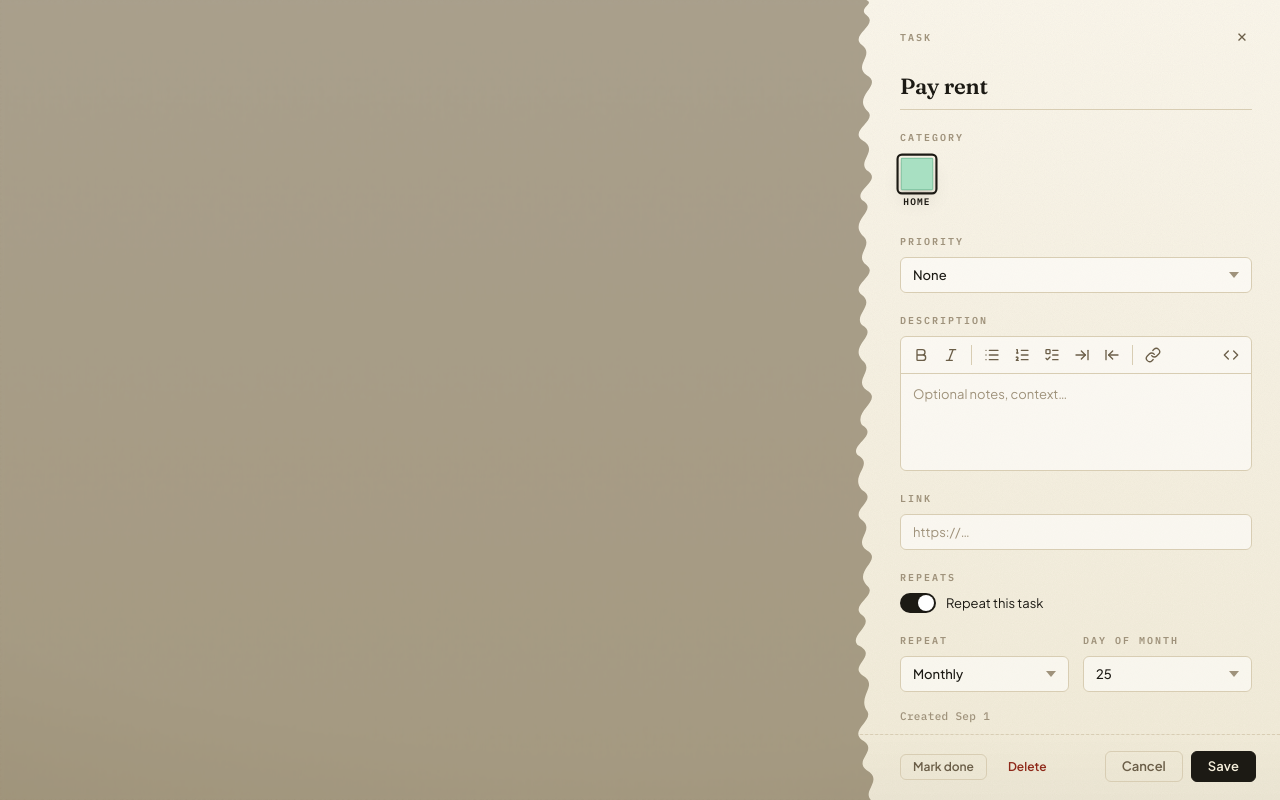
it: TaskDrawer auto-save on dismiss › stays open with the reason when the edits are invalid
This screenshot has width=1280, height=800.
Clear the 1st field with placeholder "Task title…": (1076, 90) [900, 70, 1252, 110]
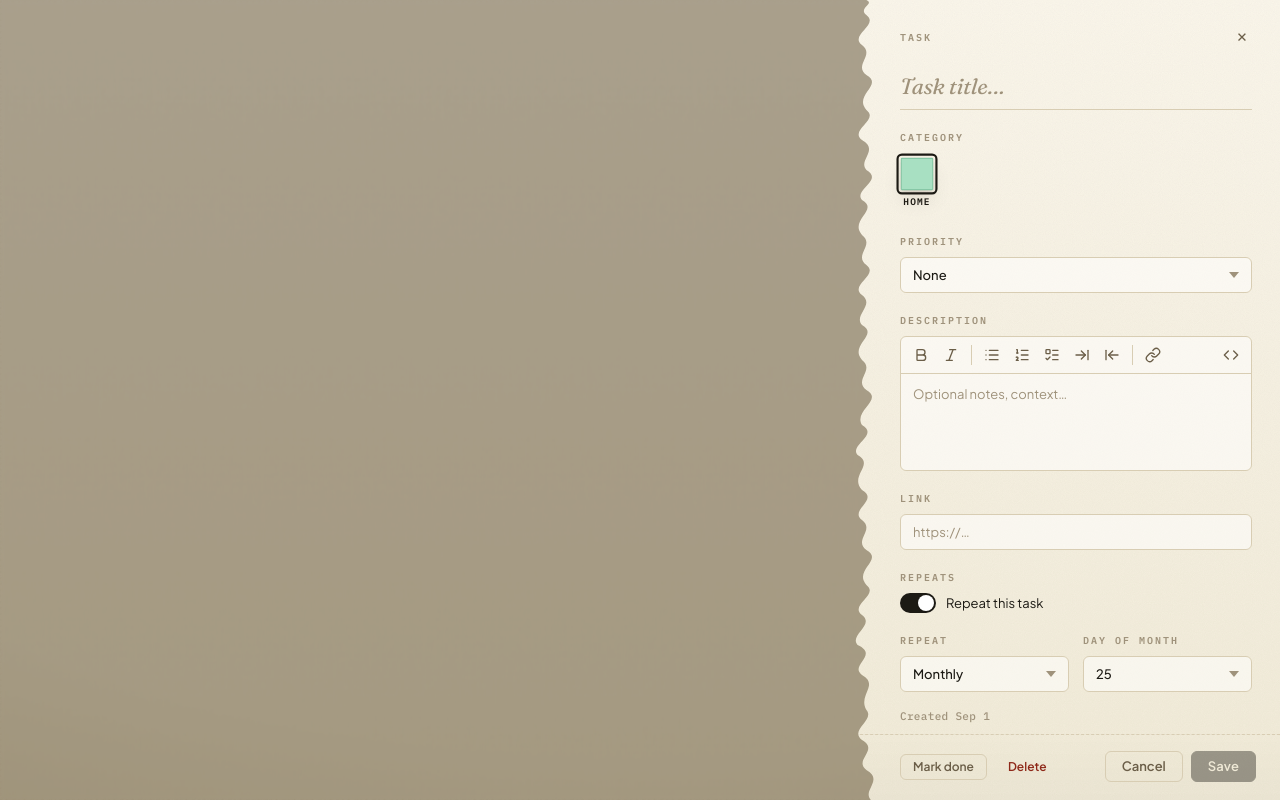
Click the button named "Close": (1242, 34) [1228, 20, 1256, 48]
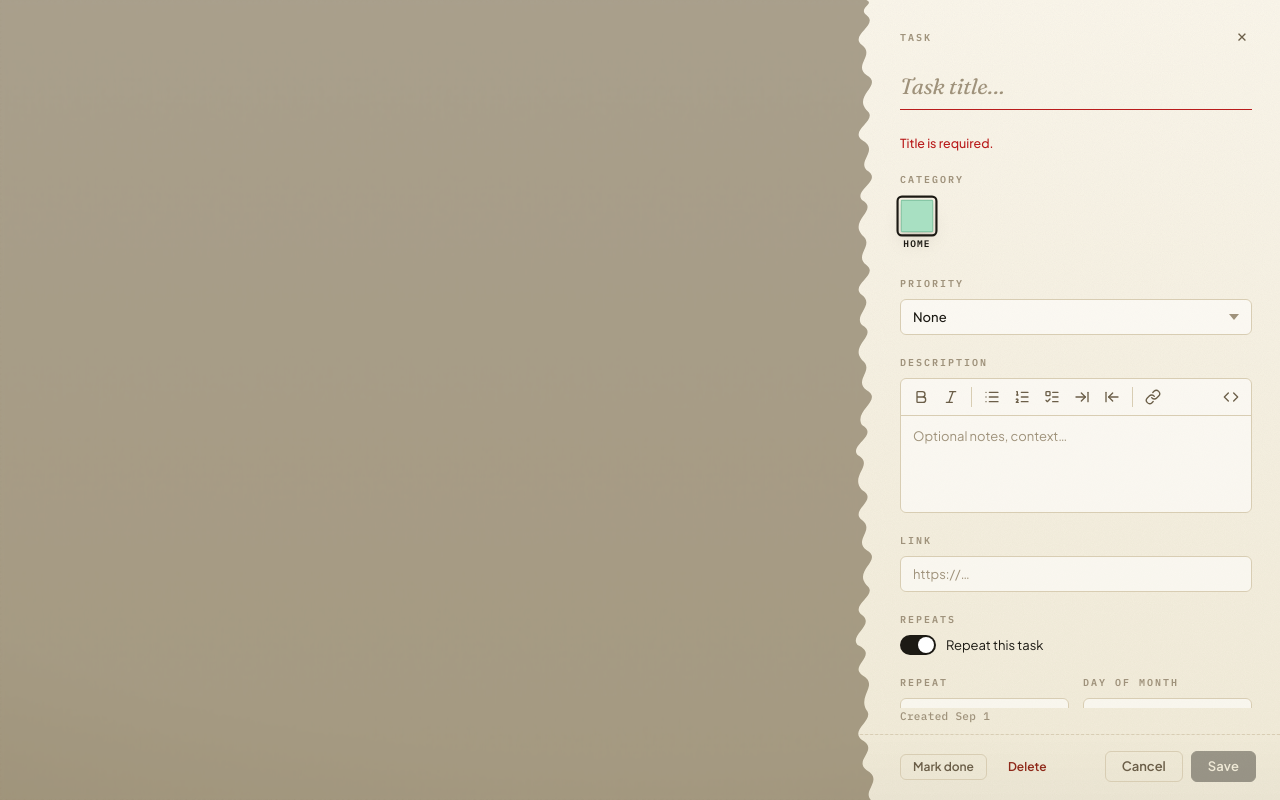
expect the text "Title is required." is shown: met, box [900, 135, 994, 151]
